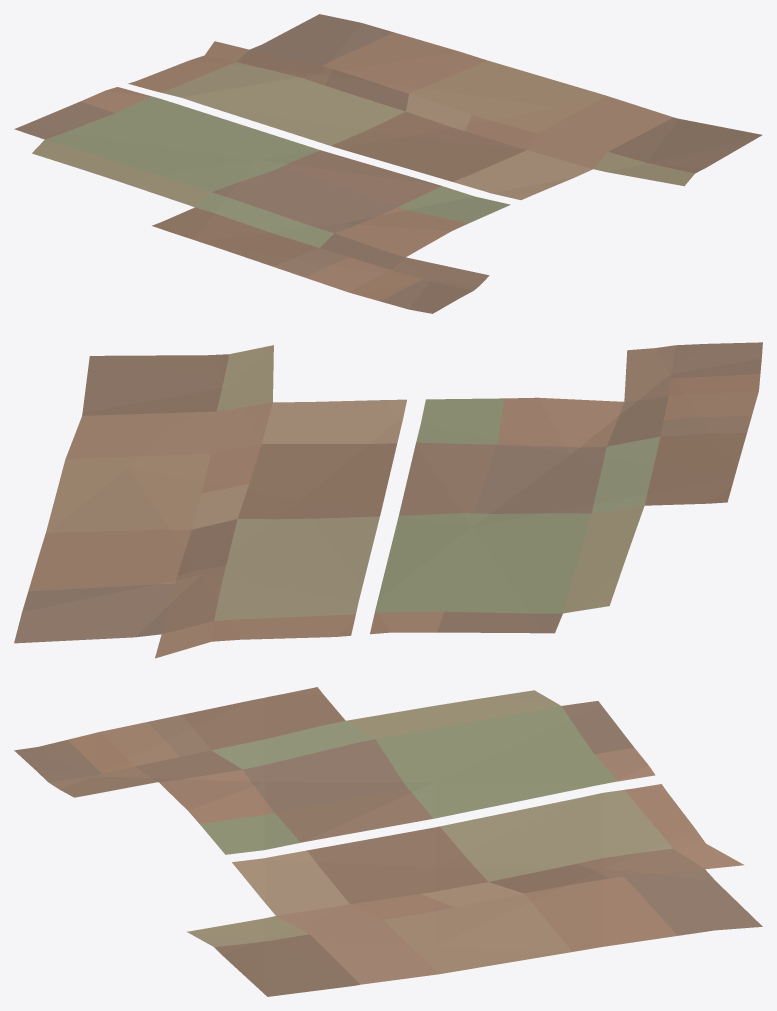
Rendered from farm_-28_-27_soil.glb.
3 renders of one model, top to bottom at view 1: azimuth 30°, elevation 25°; view 2: azimuth 150°, elevation 25°; view 3: azimuth 270°, elevation 25°, orthographic. The views are drawn at different scales.
Visible parts, largest first — view 1: geometry_0; view 2: geometry_0; view 3: geometry_0.
Part boxes in pixels (x1=…): geometry_0: x1=14, y1=14, x2=762, y2=313; geometry_0: x1=14, y1=342, x2=762, y2=658; geometry_0: x1=14, y1=687, x2=762, y2=996.
Size of the model in its own units: 315 by 26.78 by 354.
